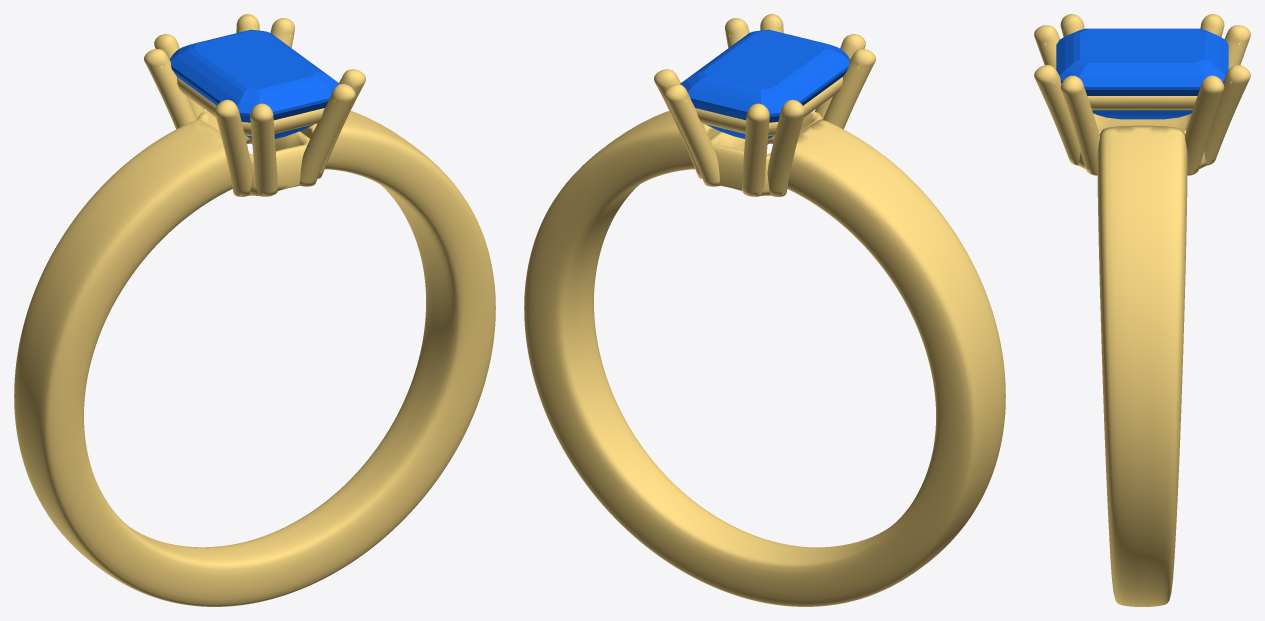
File: bluesapphire-emerald-yellowgold-8prong-straighttaperedband-solitaire.glb
3 renders of one model, left to right at view 1: azimuth 30°, elevation 25°; view 2: azimuth 150°, elevation 25°; view 3: azimuth 270°, elevation 25°, orthographic.
Parts seen in each view (by area): view 1: metal.002, stone; view 2: metal.002, stone; view 3: metal.002, stone.
Boxes of the visible parts, x1,y1,x2,y2 form: metal.002: (14, 14, 495, 606); stone: (169, 29, 339, 138); metal.002: (524, 14, 1005, 606); stone: (680, 29, 850, 138); metal.002: (1034, 14, 1250, 606); stone: (1056, 28, 1228, 119).
Size of the model in its own units: 20.49 by 22.95 by 8.4.
